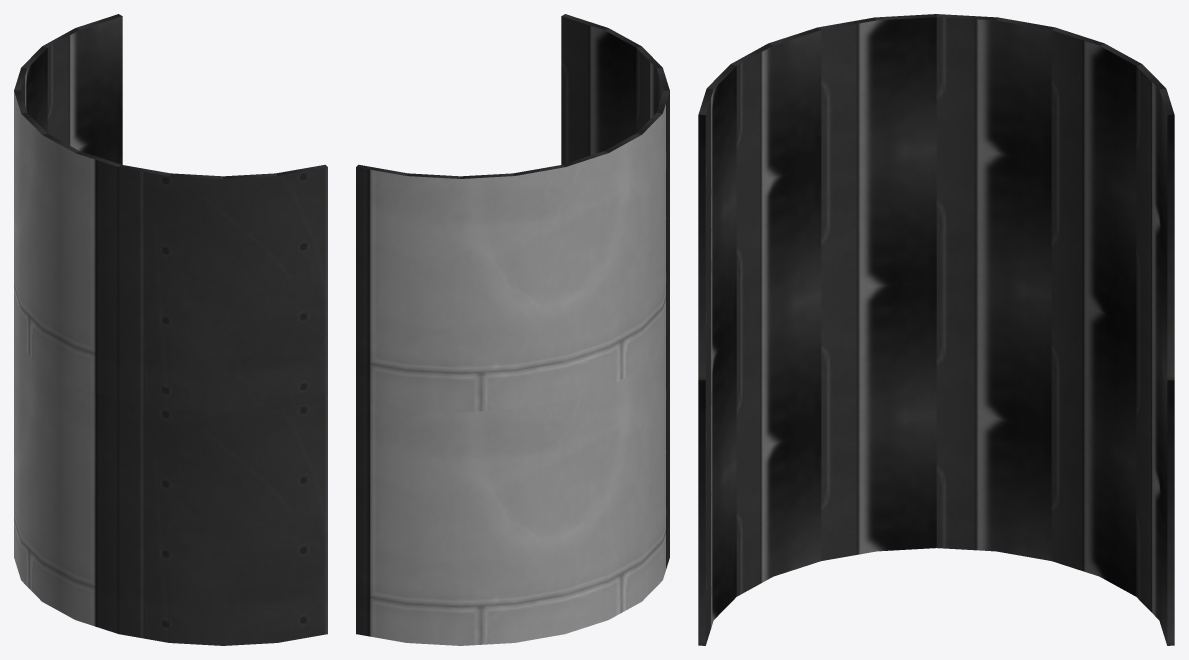
File: fixedwall.obj
The picture shows the model from 3 angles, left to right: view 1: azimuth 30°, elevation 25°; view 2: azimuth 150°, elevation 25°; view 3: azimuth 270°, elevation 25°; orthographic projection. The views are drawn at different scales.
Parts seen in each view (by area): view 1: wall; view 2: wall; view 3: wall.
Part boxes in pixels (x1,y1,x2,y2): wall: (14, 14, 327, 645); wall: (356, 14, 669, 645); wall: (698, 14, 1174, 645).
Bounding box in the file's own units: 0.8158 × 2 × 1.62.
